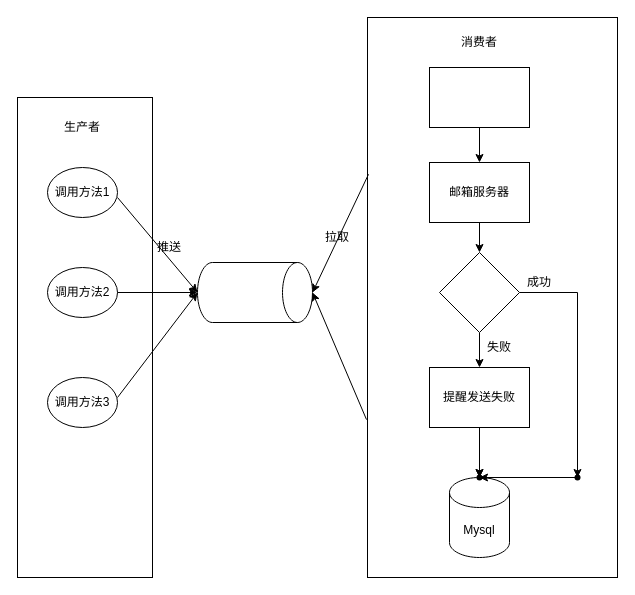
Some shapes in this 635 by 595 pixel diagram are drawn without their labels. The shapes that lost their labels are listed below. From the top down, each one's centre as x and y in pixels, then its label:
At pixel 479 97: "多线程发送".
At pixel 254 292: "队列".
At pixel 479 292: "状态".
